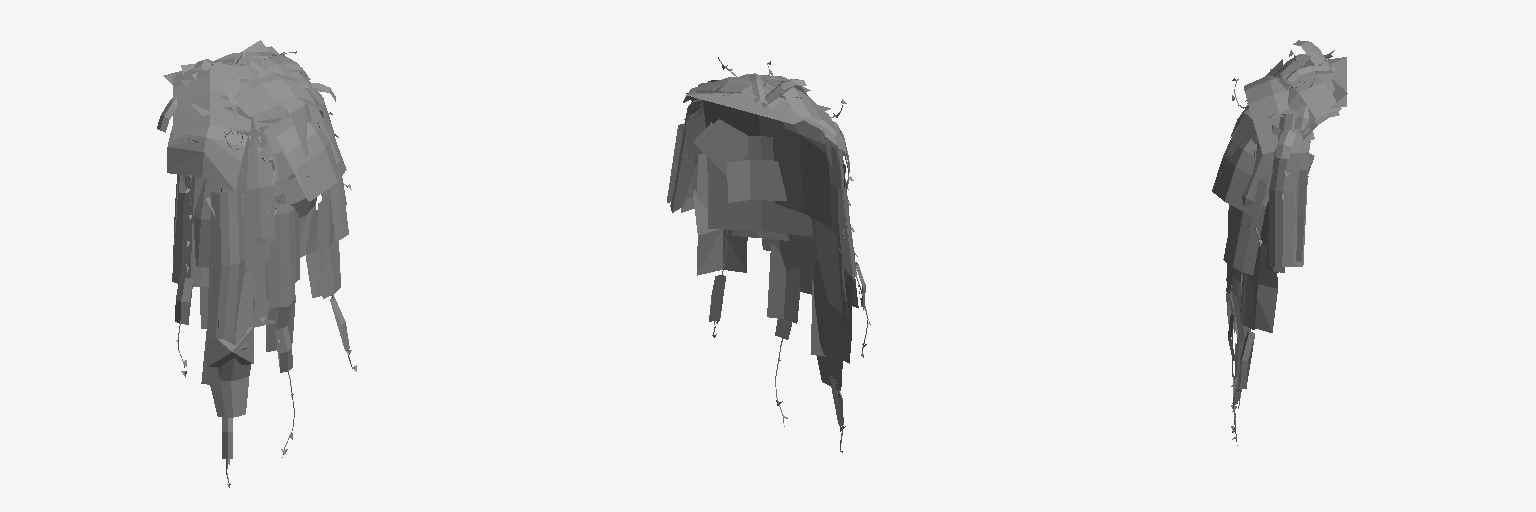
The model's file is Ivy_Brown.obj.
3 views of the same model, side by side, from view 1: azimuth 30°, elevation 25°; view 2: azimuth 150°, elevation 25°; view 3: azimuth 270°, elevation 25° (orthographic).
Parts seen in each view (by area): view 1: Ivy_Brown_LOD0, Ivy_Brown_LOD2, Ivy_Brown_LOD3; view 2: Ivy_Brown_LOD0, Ivy_Brown_LOD3, Ivy_Brown_LOD2; view 3: Ivy_Brown_LOD0, Ivy_Brown_LOD2, Ivy_Brown_LOD3.
Boxes of the visible parts, x1,y1,x2,y2 form: Ivy_Brown_LOD0: [157, 40, 356, 487]; Ivy_Brown_LOD2: [158, 63, 344, 416]; Ivy_Brown_LOD3: [172, 98, 340, 340]; Ivy_Brown_LOD0: [667, 57, 870, 452]; Ivy_Brown_LOD3: [672, 82, 858, 390]; Ivy_Brown_LOD2: [670, 76, 861, 427]; Ivy_Brown_LOD0: [1212, 40, 1347, 445]; Ivy_Brown_LOD2: [1233, 48, 1335, 404]; Ivy_Brown_LOD3: [1228, 55, 1339, 373].
Bounding box in the file's own units: 386 × 818 × 250.